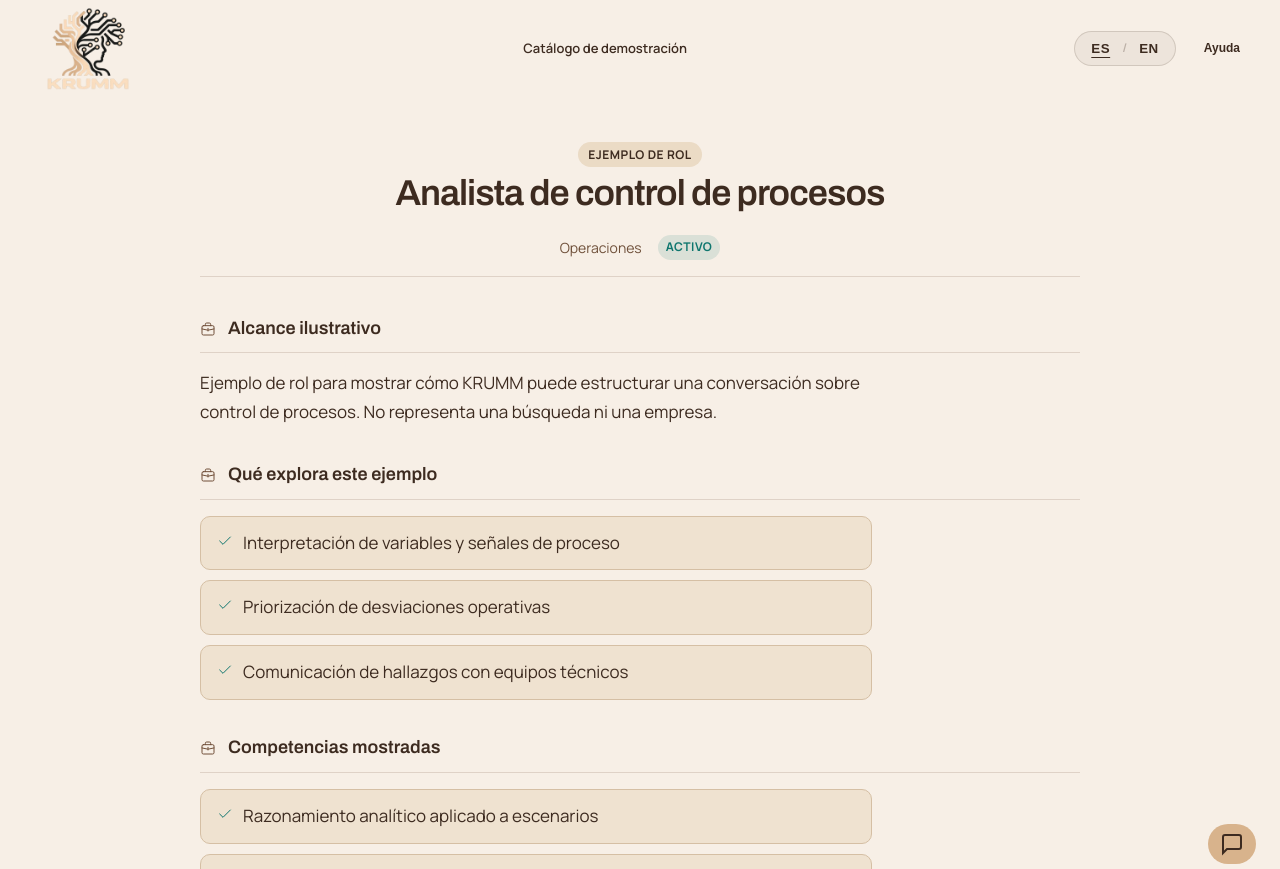
it: JobDetailPage demonstration role › translates the detail, state and informational CTA to English
This screenshot has width=1280, height=869.
Click the button "EN" at (1149, 48), box [1129,34,1169,62]
(page scrolled)
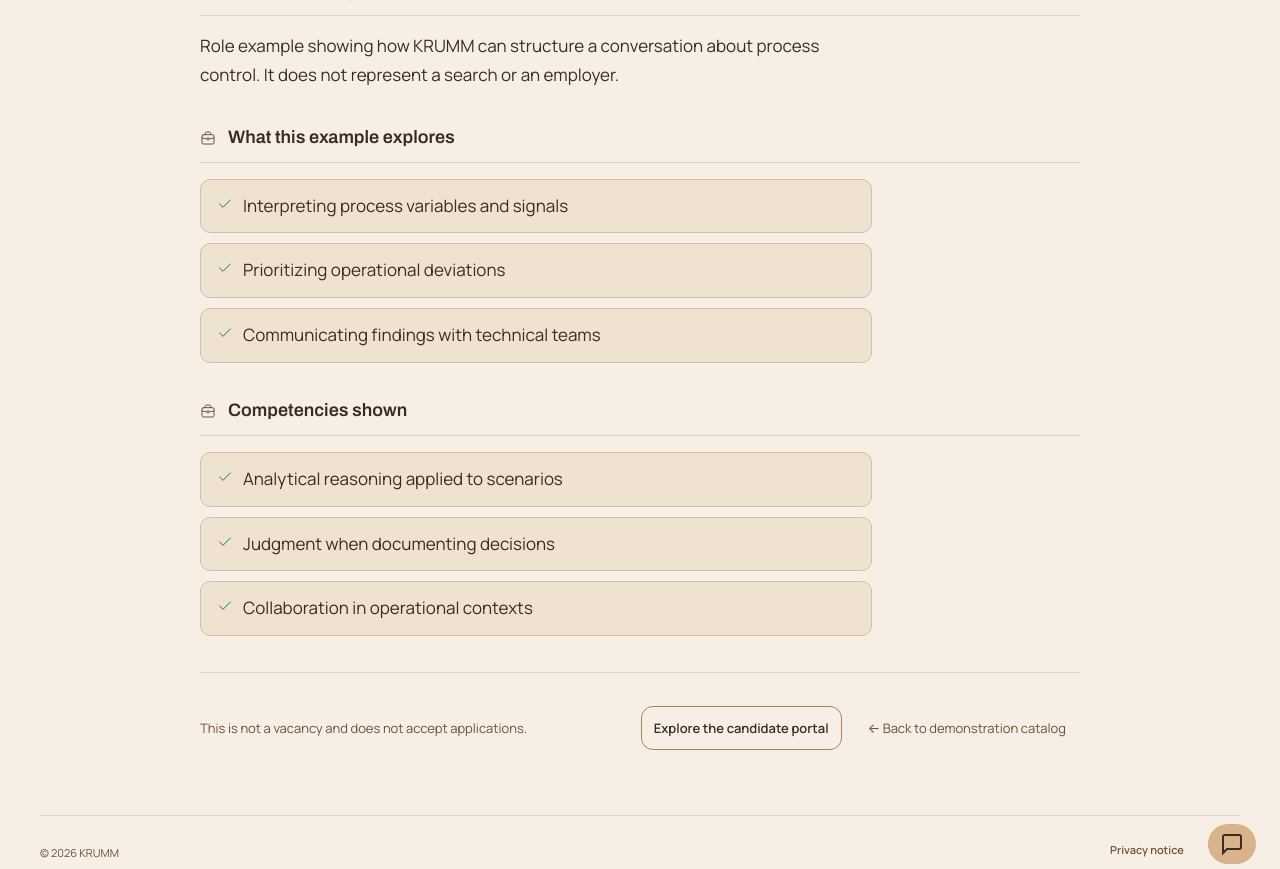
Now the text "This is not a vacancy and does not accept applications." is shown, box [200,718,527,739]
